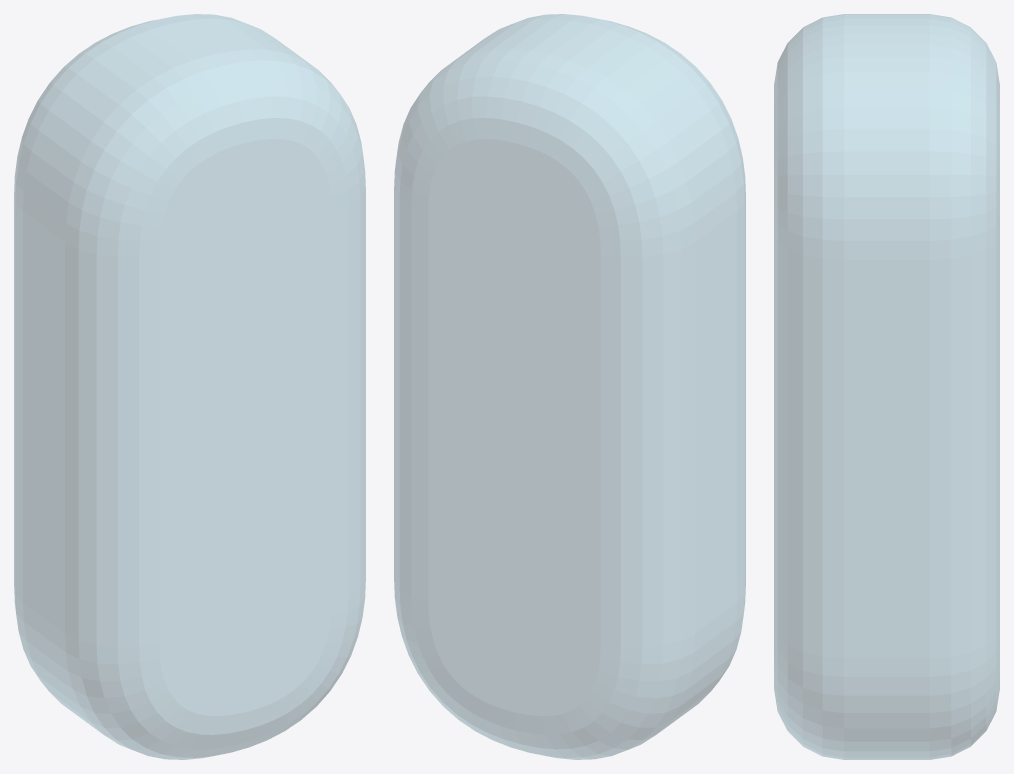
3 renders of one model, left to right at view 1: azimuth 30°, elevation 25°; view 2: azimuth 150°, elevation 25°; view 3: azimuth 270°, elevation 25°, orthographic.
Parts seen in each view (by area): view 1: gel-body; view 2: gel-body; view 3: gel-body.
Part boxes in pixels (left/top/right/bottom): gel-body: left=14, top=14, right=365, bottom=759; gel-body: left=394, top=14, right=745, bottom=759; gel-body: left=774, top=14, right=999, bottom=759.
Size of the model in its own units: 0.88 by 2 by 0.58.
